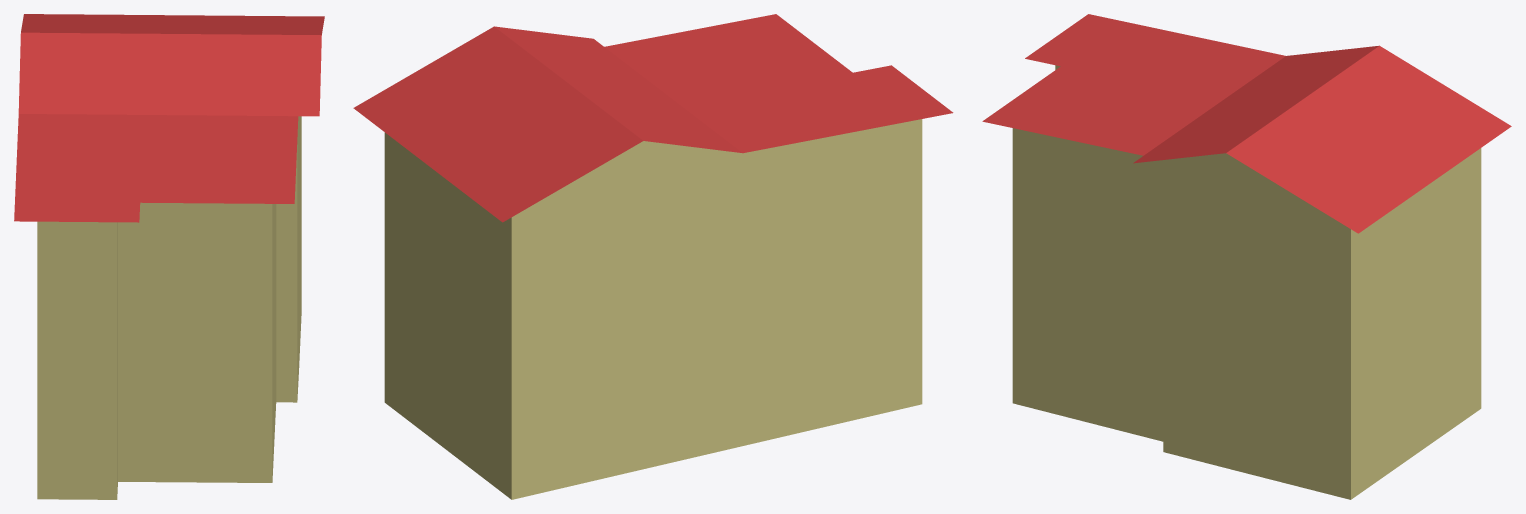
The picture shows the model from 3 angles, left to right: view 1: azimuth 30°, elevation 25°; view 2: azimuth 150°, elevation 25°; view 3: azimuth 270°, elevation 25°; orthographic projection. The views are drawn at different scales.
Bounding box in the file's own units: 11.43 × 11.88 × 8.06.
